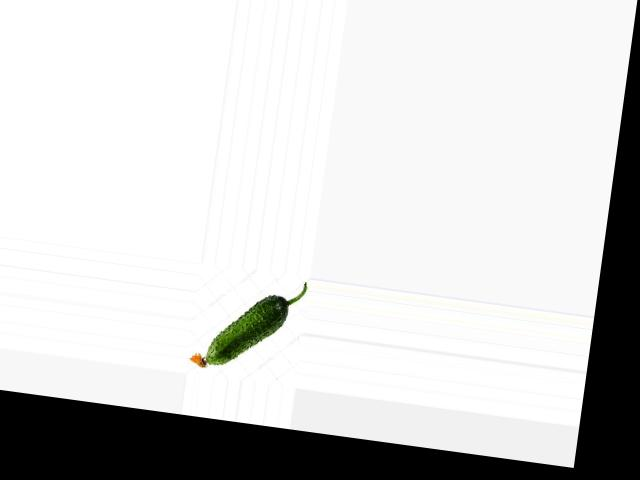cucumber: (188, 268, 307, 379)
